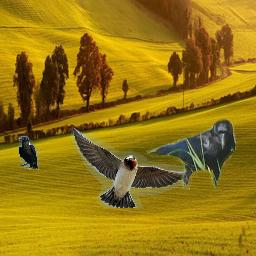Crow: (146, 119, 236, 190), (18, 136, 39, 170)
Swallow: (71, 126, 191, 208)
